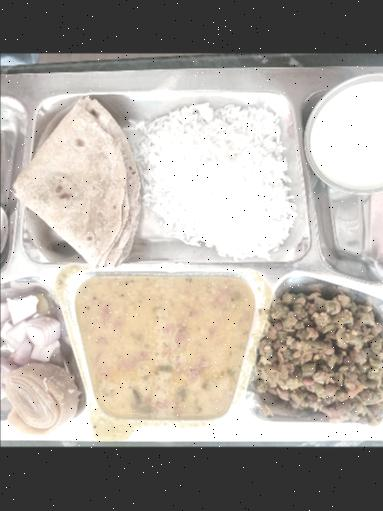Curd: (304, 58, 383, 200)
Dal: (93, 278, 235, 414)
Rice: (143, 108, 301, 257)
Roti: (16, 95, 135, 261)
Salad: (0, 281, 61, 361)
Sweet: (4, 359, 88, 439)
Vegetable: (259, 282, 383, 424)
